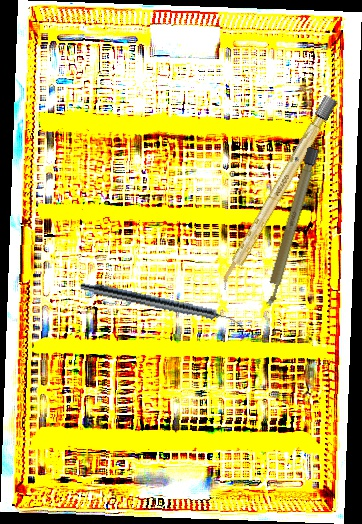Handpiece: (78, 279, 246, 330)
Scalpel Handle: (215, 94, 339, 292), (261, 146, 320, 309)
